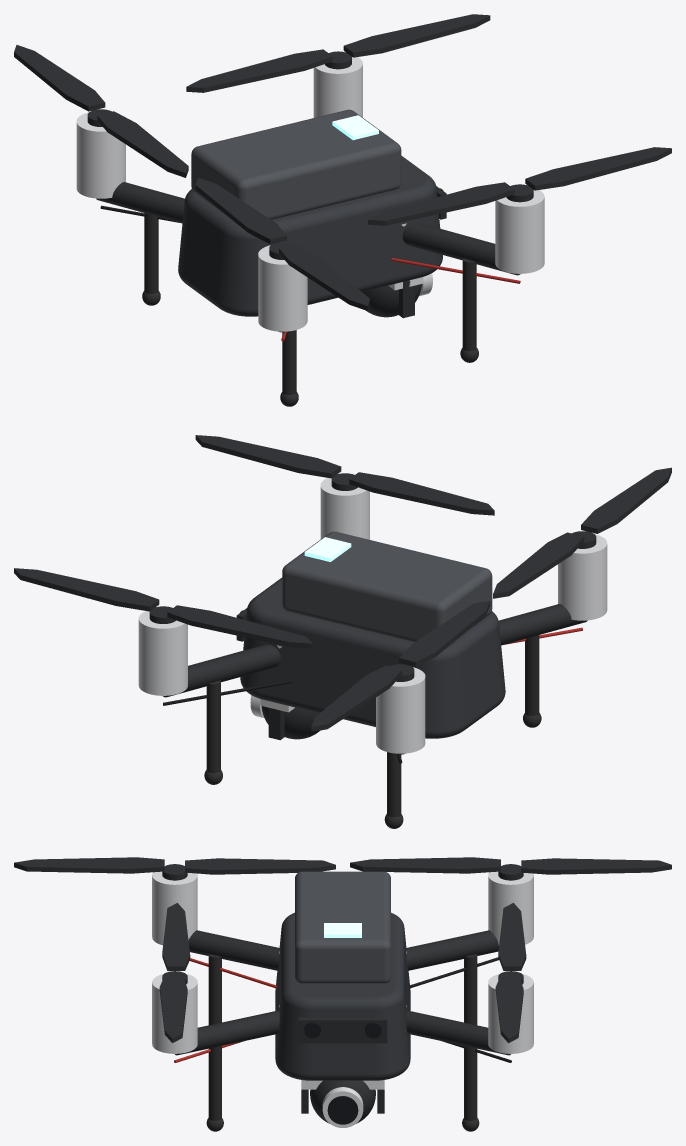
File: anatomy_v1.glb
3 renders of one model, top to bottom at view 1: azimuth 30°, elevation 25°; view 2: azimuth 150°, elevation 25°; view 3: azimuth 270°, elevation 25°, orthographic. The views are drawn at different scales.
Parts seen in each view (by area): view 1: body.1, accent.1, metal.22, metal.24, metal.23, metal.21, coat.42, coat.43, coat.44, coat.45, coat.12, coat.46 (+9 smaller); view 2: body.1, accent.1, metal.21, metal.23, metal.24, metal.22, coat.44, coat.43, coat.42, coat.45, coat.11, coat.47 (+9 smaller); view 3: body.1, accent.1, metal.24, metal.23, coat.49, coat.46, coat.47, coat.48, coat.13, coat.14, metal.21, metal.22 (+15 smaller).
Boxes of the visible parts, box(x1,y1,x2,y2) form: body.1: box(178, 155, 442, 316); accent.1: box(191, 109, 401, 223); metal.22: box(495, 190, 544, 273); metal.24: box(258, 245, 307, 331); metal.23: box(76, 112, 125, 198); metal.21: box(313, 57, 362, 117); coat.42: box(343, 14, 490, 57); coat.43: box(186, 49, 332, 92); coat.44: box(525, 147, 671, 190); coat.45: box(368, 182, 514, 225); coat.12: box(402, 222, 520, 275); coat.46: box(14, 45, 105, 111); body.1: box(240, 577, 505, 738); accent.1: box(282, 531, 492, 642); metal.21: box(138, 611, 187, 695); metal.23: box(376, 667, 425, 753); metal.24: box(558, 534, 607, 620); metal.22: box(320, 478, 369, 539); coat.44: box(195, 435, 341, 478); coat.43: box(167, 605, 312, 648); coat.42: box(14, 568, 159, 611); coat.45: box(349, 472, 494, 515); coat.11: box(163, 644, 280, 697); coat.47: box(399, 600, 490, 666); body.1: box(275, 912, 410, 1080); accent.1: box(295, 871, 390, 983); metal.24: box(152, 871, 197, 945); metal.23: box(488, 871, 533, 944); coat.49: box(14, 857, 164, 873); coat.46: box(521, 858, 671, 874); coat.47: box(350, 857, 500, 873); coat.48: box(185, 858, 335, 874); coat.13: box(406, 930, 498, 970); coat.14: box(188, 930, 279, 970); metal.21: box(488, 974, 533, 1053); metal.22: box(152, 974, 197, 1053).
Size of the model in its own units: 0.1724 by 0.0791 by 0.2596.
